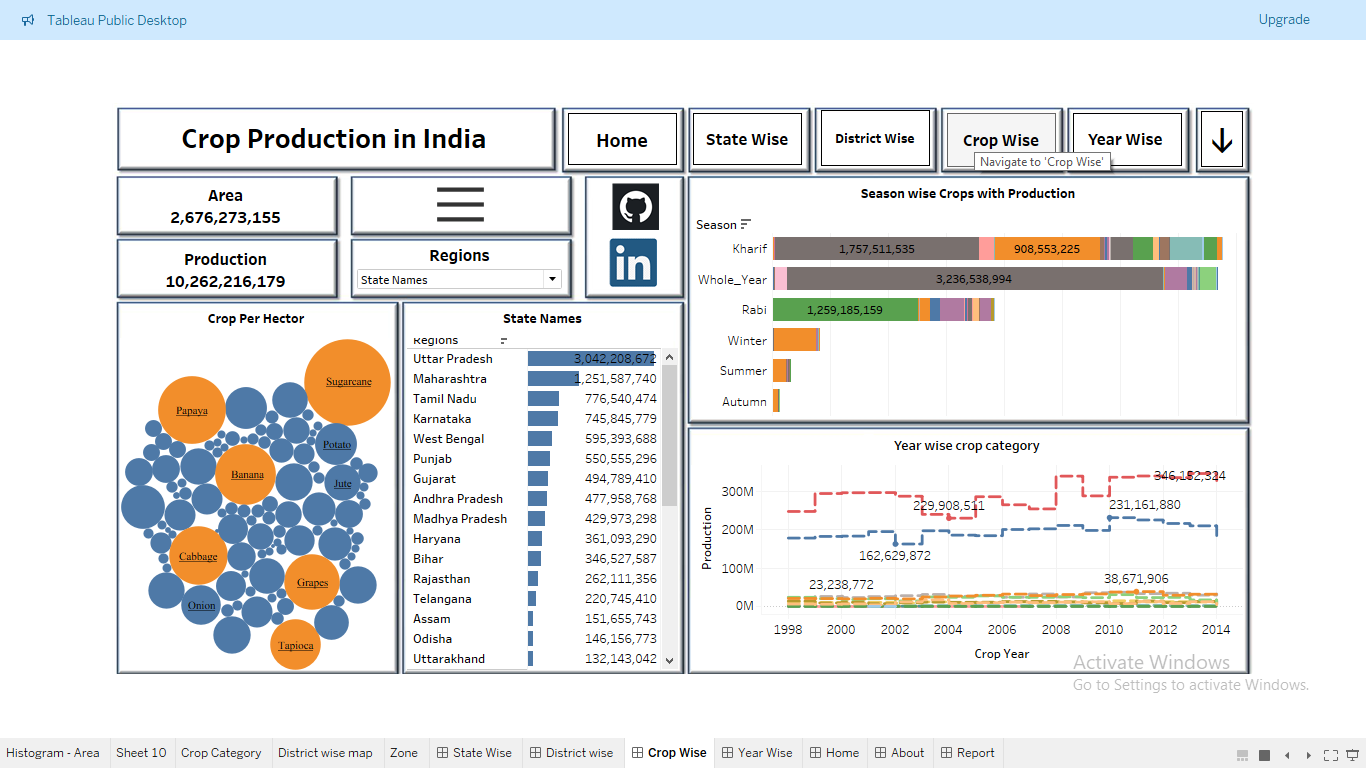

The page's visual inventory and layout, read from the dashboard file:
{"tool":"tableau","page":{"name":"Home","canvas":[1150,600],"ordinal":3},"visuals":[{"type":"image","param":"Image/CPII 1.jpg","box":[0,0,1150,600]},{"type":"text","box":[14,23,426,52]},{"type":"dashboard-object","box":[1092,23,44,53]},{"type":"dashboard-object","box":[459,24,109,52]},{"type":"dashboard-object","box":[586,24,109,52]},{"type":"dashboard-object","box":[712,24,109,52]},{"type":"dashboard-object","box":[838,24,109,52]},{"type":"dashboard-object","box":[964,25,109,52]},{"type":"dashboard-object","box":[981,79,157,57]},{"type":"image","param":"Image/linkedin.png","box":[1065,90,70,50]},{"type":"worksheet","title":"KPI","mark":"Automatic","box":[24,91,210,50]},{"type":"dashboard-object","box":[511,91,209,48]},{"type":"image","param":"Image/github-6980894_1920.png","box":[1011,91,51,47]},{"type":"worksheet","title":"KPI ","mark":"Automatic","box":[267,92,211,48]},{"type":"parameter","param":"[Parameters].[Parameter 1]","box":[755,92,207,46]},{"type":"dashboard-object","box":[981,136,157,57]},{"type":"filter","title":"Production vs Area by","param":"[federated.1tu41g31wm18641arbtzr10wprao].[none:Zone:nk]","box":[512,139,209,84]},{"type":"worksheet","title":"Production vs Area by","mark":"Circle","rows":["Production"],"cols":["Area"],"box":[13,153,551,259]},{"type":"worksheet","title":"Sheet 13","mark":"Automatic","rows":["Production","Production"],"cols":["Calculation_311592810544599043"],"box":[577,156,556,258]},{"type":"filter","title":"Production vs Area by","param":"[federated.1tu41g31wm18641arbtzr10wprao].[none:Calculation_311592810542178305:nk","box":[512,223,209,84]},{"type":"filter","title":"Production vs Area by","param":"[federated.1tu41g31wm18641arbtzr10wprao].[none:Crop_Year:qk]","box":[512,307,209,84]},{"type":"filter","title":"Production vs Area by","param":"[federated.1tu41g31wm18641arbtzr10wprao].[none:Crop_Category:nk]","box":[512,391,209,84]},{"type":"worksheet","title":"Table","mark":"Automatic","cols":["Calculation_311592810542178305","Season","Crop"],"box":[7,428,1133,151]},{"type":"filter","title":"Production vs Area by","param":"[federated.1tu41g31wm18641arbtzr10wprao].[none:Crop:nk]","box":[512,475,209,83]}]}

Visuals, with their boxes on the page's 1150x600 design canvas (x1, y1, x2, y2). These are canvas units, not pixel positions in the 1366x768 screenshot, which may show the page scaled, cropped or inside an application window:
image: (0, 0, 1150, 600)
text: (14, 23, 440, 75)
dashboard-object: (1092, 23, 1136, 76)
dashboard-object: (459, 24, 568, 76)
dashboard-object: (586, 24, 695, 76)
dashboard-object: (712, 24, 821, 76)
dashboard-object: (838, 24, 947, 76)
dashboard-object: (964, 25, 1073, 77)
dashboard-object: (981, 79, 1138, 136)
image: (1065, 90, 1135, 140)
"KPI" worksheet: (24, 91, 234, 141)
dashboard-object: (511, 91, 720, 139)
image: (1011, 91, 1062, 138)
"KPI " worksheet: (267, 92, 478, 140)
parameter: (755, 92, 962, 138)
dashboard-object: (981, 136, 1138, 193)
"Production vs Area by" filter: (512, 139, 721, 223)
"Production vs Area by" worksheet (Circle marks): (13, 153, 564, 412)
"Sheet 13" worksheet: (577, 156, 1133, 414)
"Production vs Area by" filter: (512, 223, 721, 307)
"Production vs Area by" filter: (512, 307, 721, 391)
"Production vs Area by" filter: (512, 391, 721, 475)
"Table" worksheet: (7, 428, 1140, 579)
"Production vs Area by" filter: (512, 475, 721, 558)
